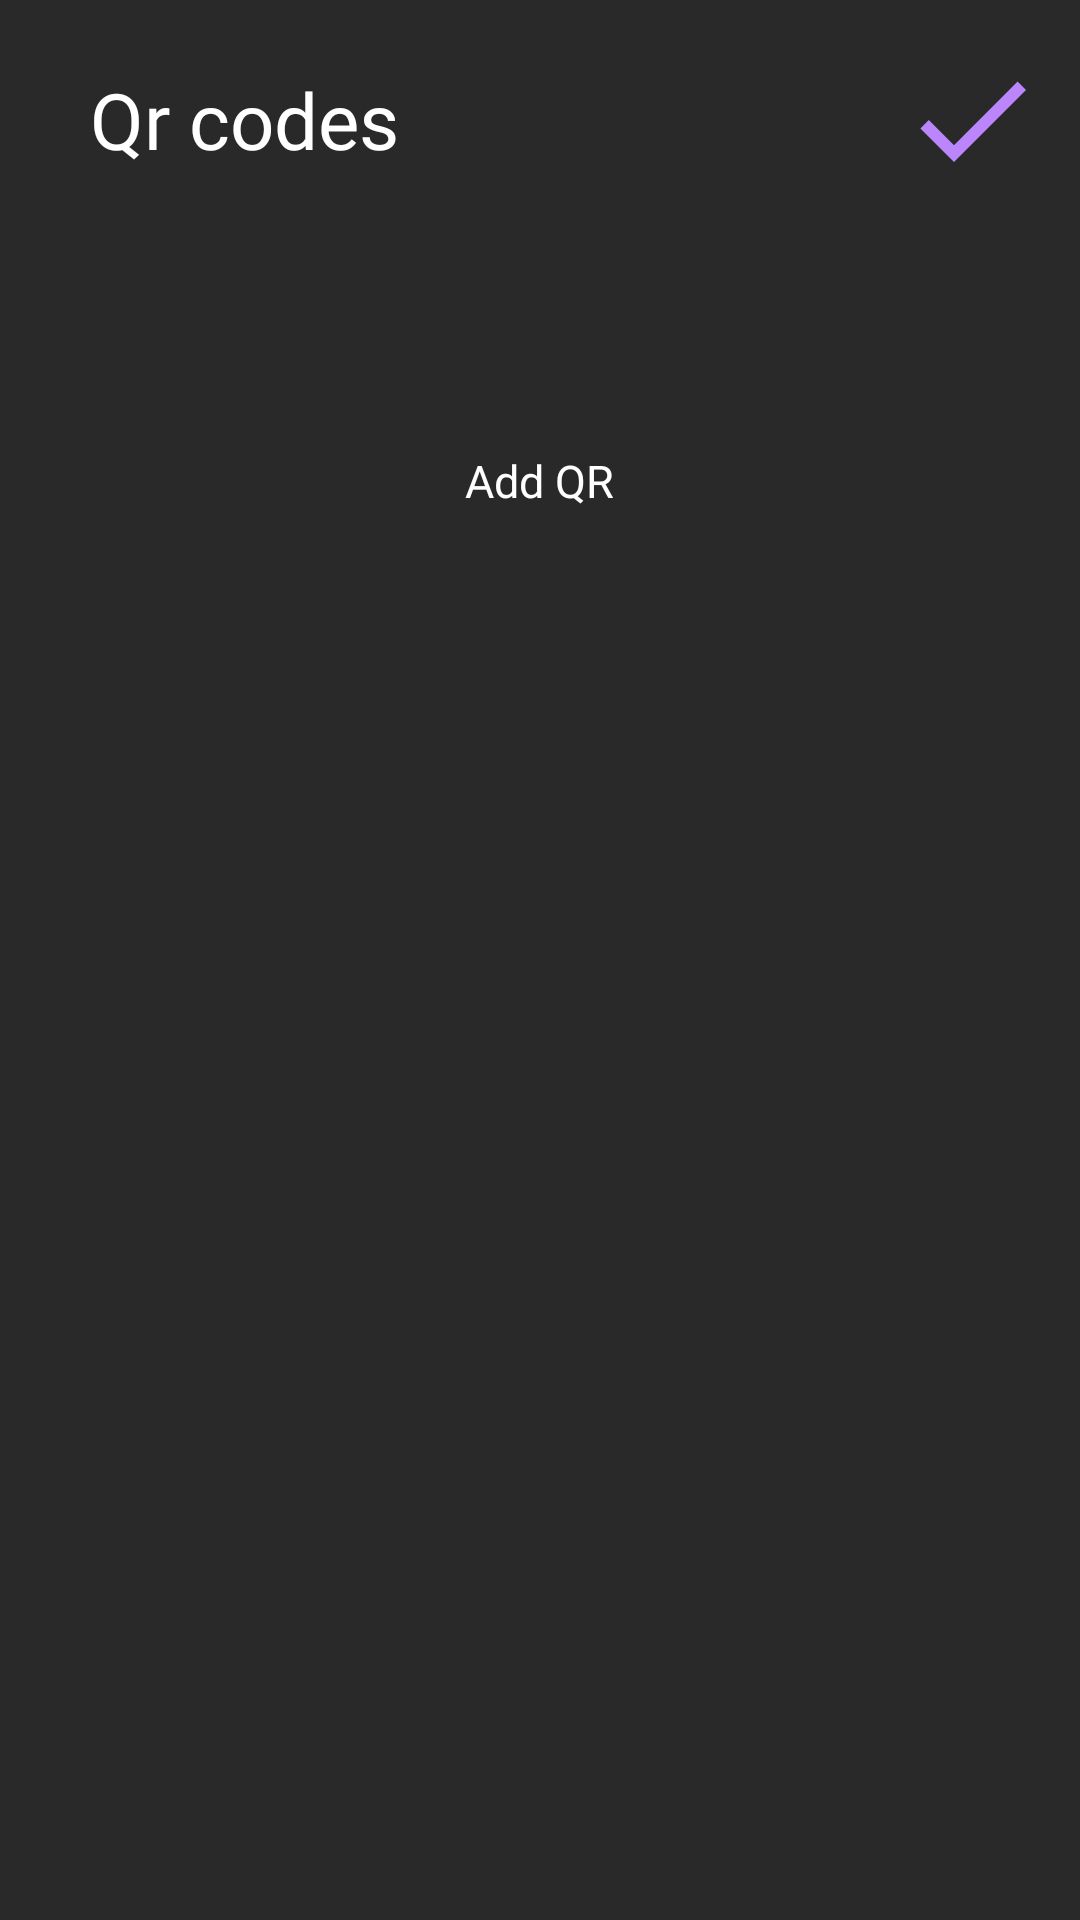

Named icons in this screenshot (1080*1920) and their centers, (x,y):
done: (973,121)
